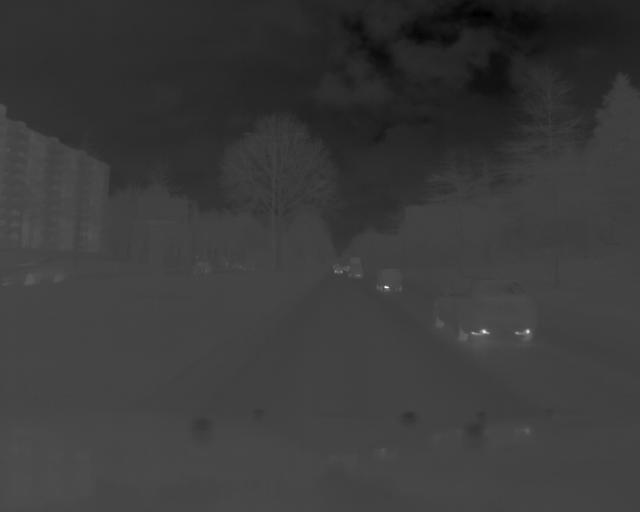car: (431, 273, 541, 344), (374, 268, 405, 295)
